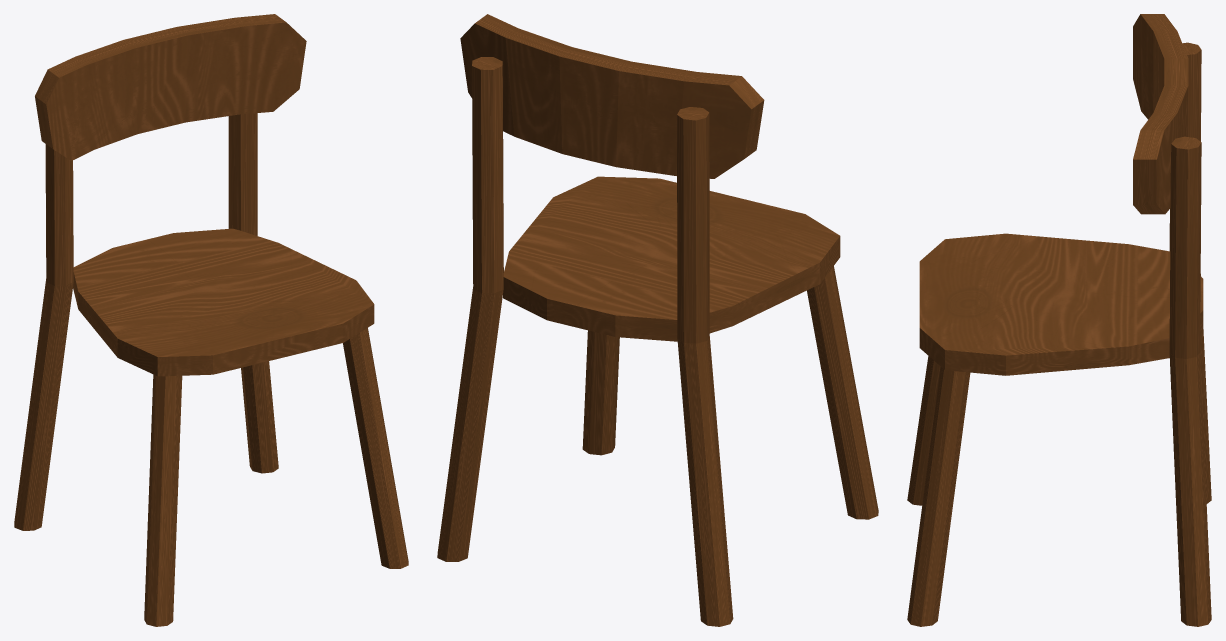
File: stuhl model.fbx
The picture shows the model from 3 angles, left to right: view 1: azimuth 30°, elevation 25°; view 2: azimuth 150°, elevation 25°; view 3: azimuth 270°, elevation 25°; orthographic projection. The views are drawn at different scales.
Parts seen in each view (by area): view 1: sthul; view 2: sthul; view 3: sthul.
Boxes of the visible parts, <box> form: sthul: <box>14,14,408,626</box>; sthul: <box>437,14,878,626</box>; sthul: <box>907,14,1211,626</box>.
Size of the model in its own units: 159 by 271 by 153.
